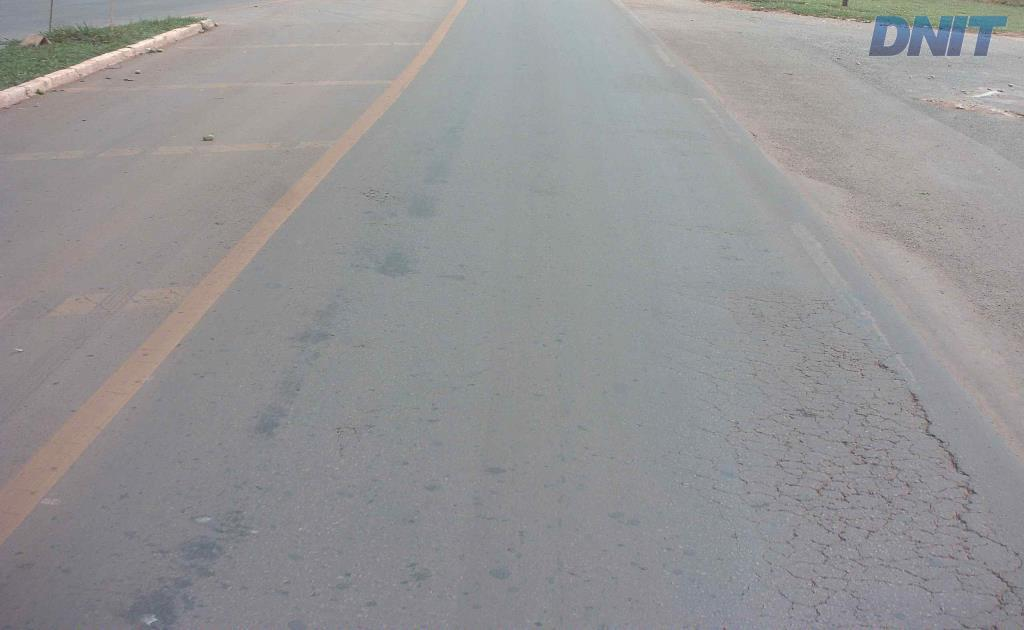crack: (935, 561, 1017, 629), (832, 435, 882, 469)
